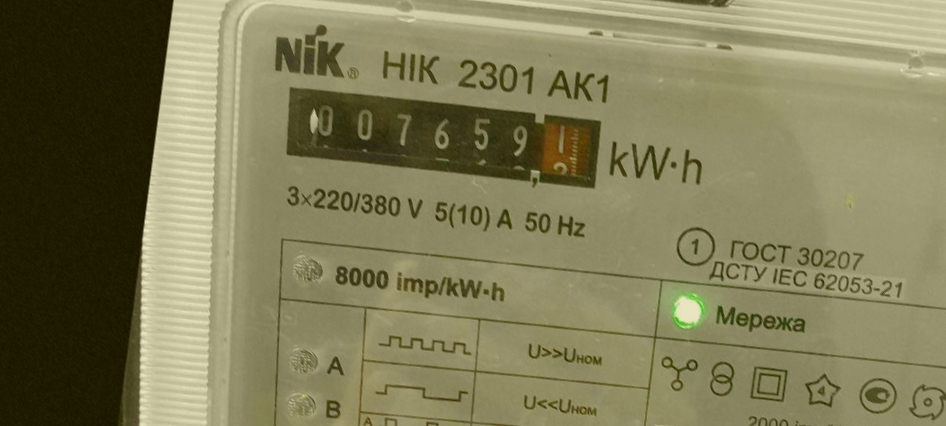0: (352, 105, 380, 145), (313, 100, 339, 142)
1: (552, 120, 573, 158)
5: (470, 115, 495, 154)
6: (430, 114, 456, 153)
7: (390, 109, 416, 150)
9: (507, 121, 533, 161)
screen: (272, 73, 615, 205)
